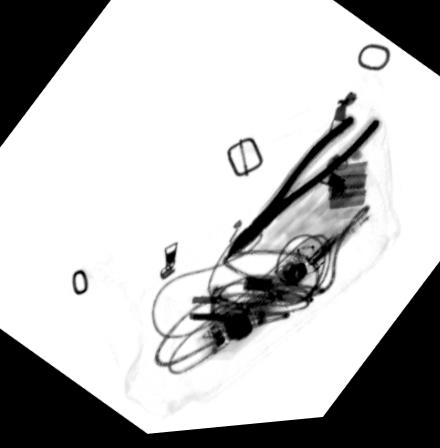Pliers: (223, 121, 380, 264)
